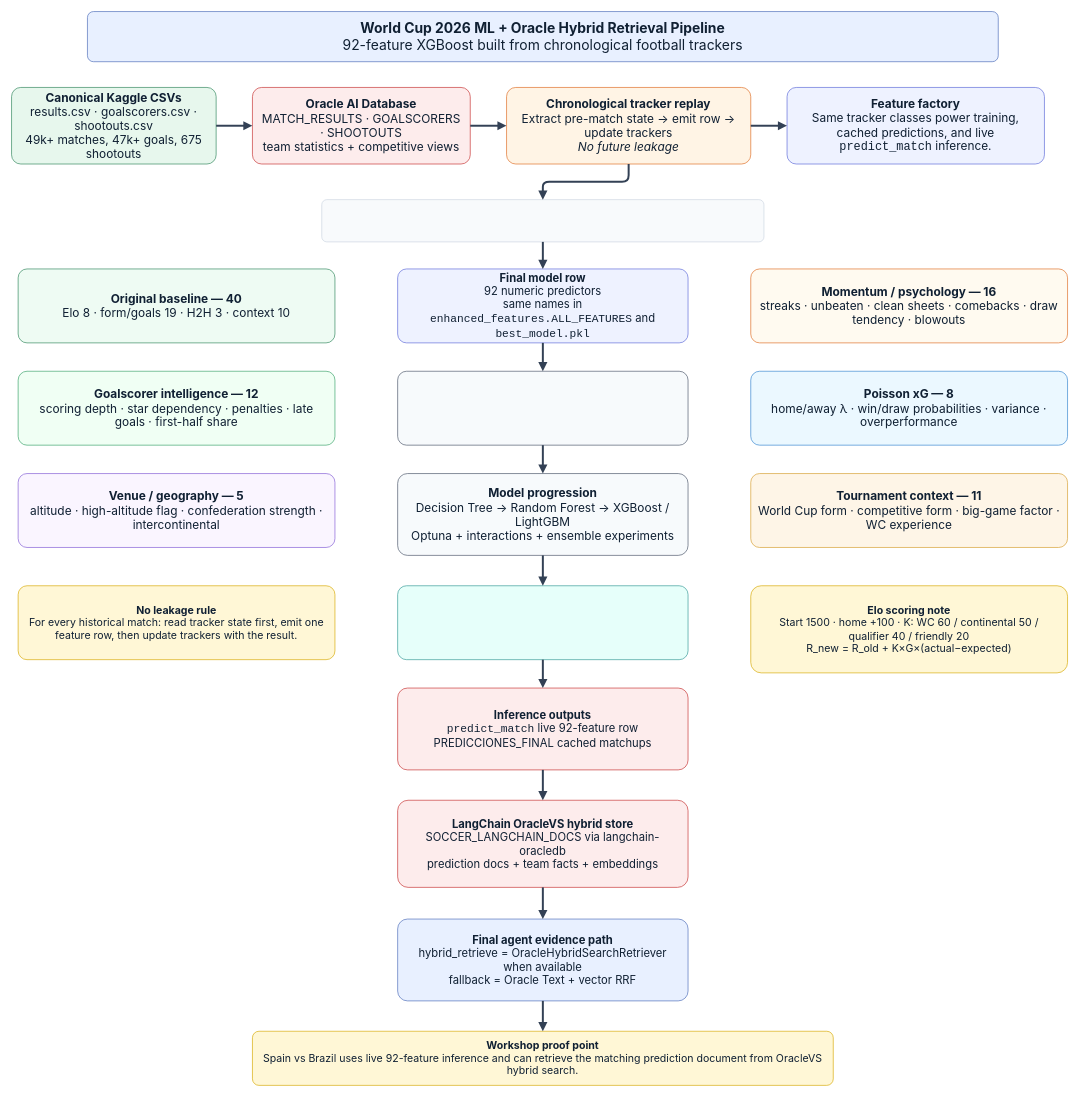
The diagram is 1079 pixels wide and 1097 high, and some of its shapes have lost their labels. The box of each missing label's shape, as (x1, y1, x2, y2) in pixels:
Feature family extractors — 92 predictors assembled before each match update: (321, 199, 764, 242)
Production artifact models/best_model.pkl classes: Win · Draw · Loss: (397, 585, 688, 660)
Training protocol Use matches from 1990+ time split: train < 2020, test ≥ 2020: (397, 371, 688, 445)
